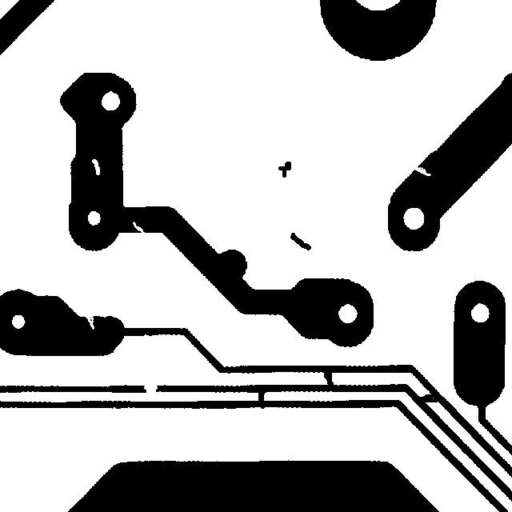copper: (282, 225, 318, 258), (270, 154, 298, 185)
mousebite: (404, 159, 438, 183), (125, 214, 153, 242), (78, 308, 102, 337)
open: (136, 378, 165, 401)
pin-hole: (84, 151, 107, 182)
short: (410, 386, 446, 410), (316, 360, 341, 394), (250, 382, 273, 416)
